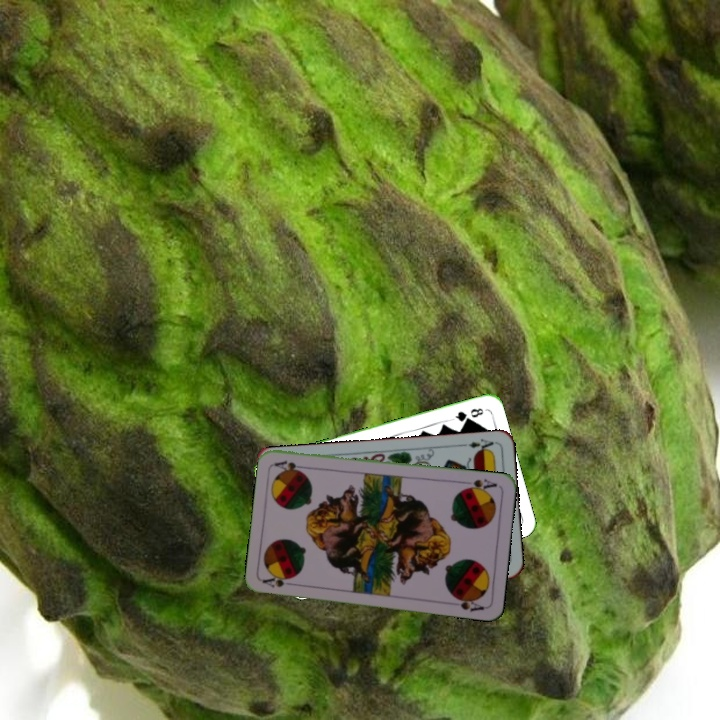EA: (457, 435, 498, 455)
G8: (448, 404, 486, 424)
SA: (459, 475, 500, 495), (259, 573, 300, 590)
